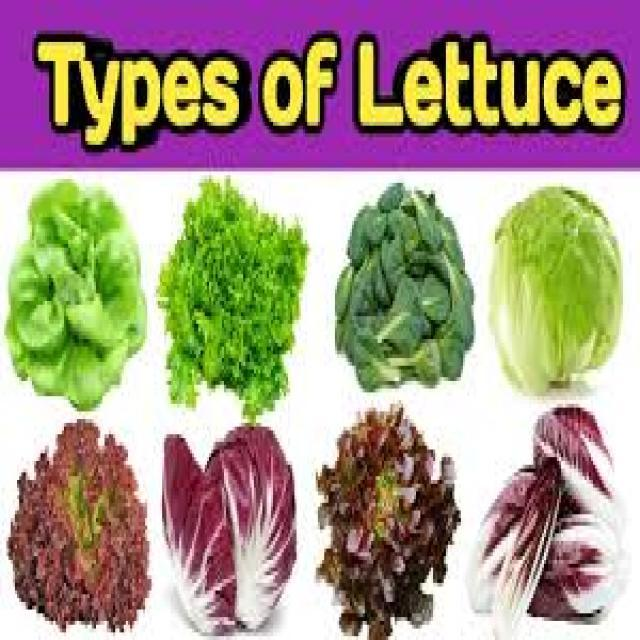Lettuce: (154, 171, 310, 423), (470, 404, 622, 640), (313, 401, 463, 640), (5, 180, 148, 414), (8, 415, 154, 636), (332, 180, 475, 392), (160, 420, 298, 636), (488, 184, 624, 400)
